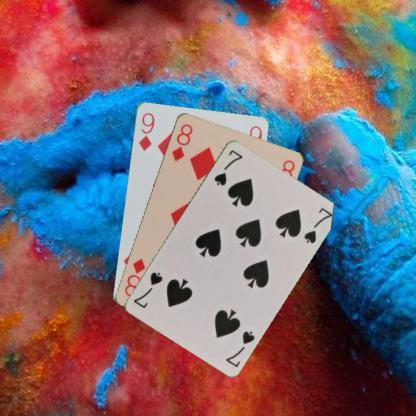7s: (211, 146, 244, 186), (223, 328, 256, 368)
8d: (168, 121, 194, 162)
9d: (135, 110, 156, 152)
